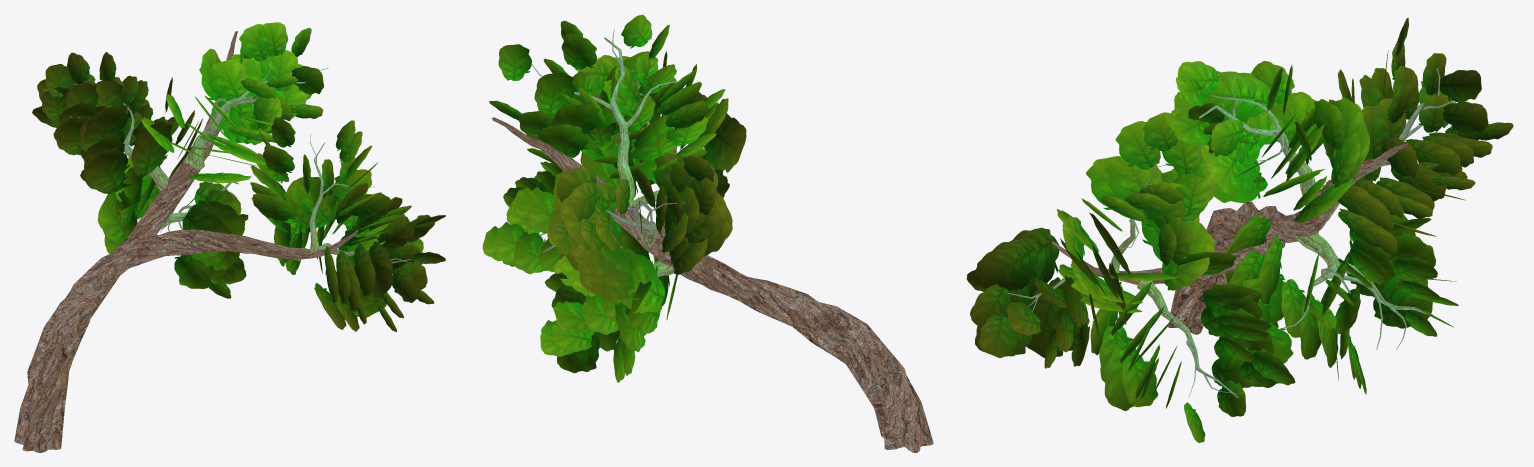
The model's file is crinkly_oak_tree_free.glb.
The picture shows the model from 3 angles, left to right: view 1: azimuth 30°, elevation 25°; view 2: azimuth 150°, elevation 25°; view 3: azimuth 270°, elevation 25°; orthographic projection. The views are drawn at different scales.
Visible parts, largest first — view 1: Object_3, Object_2; view 2: Object_3, Object_2; view 3: Object_3, Object_2.
Boxes of the visible parts, bbox=[...] form: Object_3: bbox=[32, 22, 445, 331]; Object_2: bbox=[14, 31, 421, 452]; Object_3: bbox=[482, 14, 746, 382]; Object_2: bbox=[492, 29, 933, 452]; Object_3: bbox=[966, 18, 1513, 442]; Object_2: bbox=[1006, 68, 1468, 398].
Bounding box in the file's own units: 3.82 × 3.19 × 3.82.
Materials: 2 (2 with a texture image).
